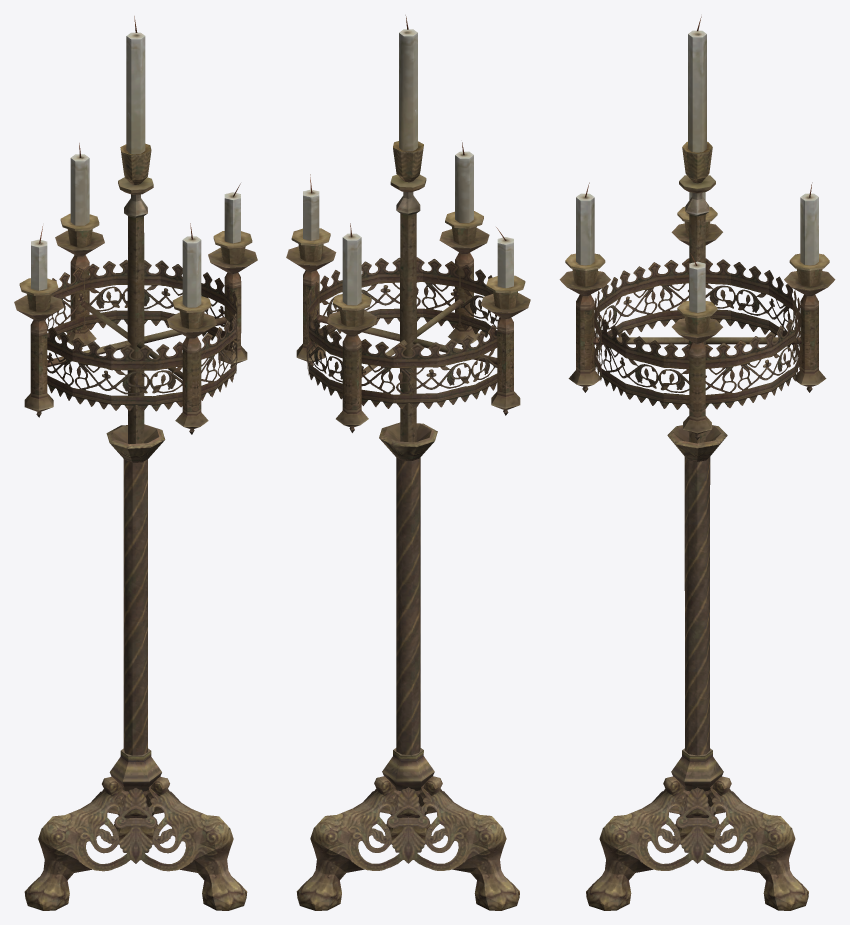
Rendered from bg_lut_lucastle_libraryprop07_sm_artree.FBX.
The picture shows the model from 3 angles, left to right: view 1: azimuth 30°, elevation 25°; view 2: azimuth 150°, elevation 25°; view 3: azimuth 270°, elevation 25°; orthographic projection.
Parts seen in each view (by area): view 1: bg_lut_lucastle_libraryprop07_sm_artree; view 2: bg_lut_lucastle_libraryprop07_sm_artree; view 3: bg_lut_lucastle_libraryprop07_sm_artree.
Boxes of the visible parts, <box> form: bg_lut_lucastle_libraryprop07_sm_artree: <box>14,16,257,910</box>; bg_lut_lucastle_libraryprop07_sm_artree: <box>286,15,530,910</box>; bg_lut_lucastle_libraryprop07_sm_artree: <box>559,16,835,910</box>.
Bounding box in the file's own units: 80.7 × 279 × 80.7.
